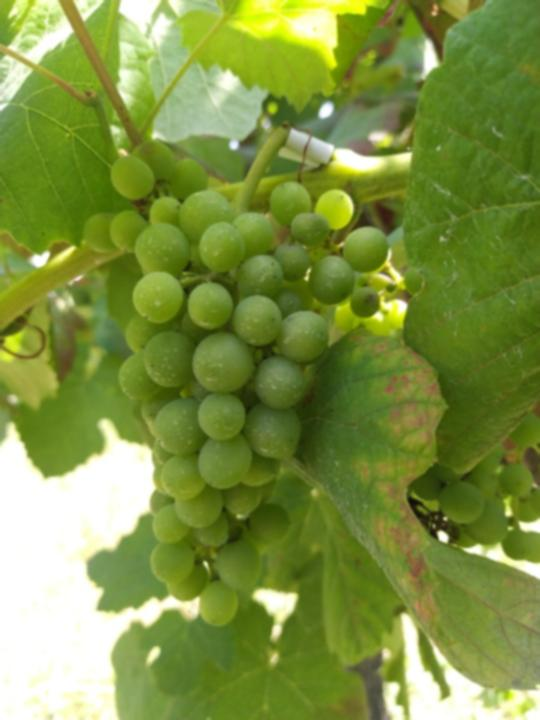grape: (82, 138, 397, 630)
